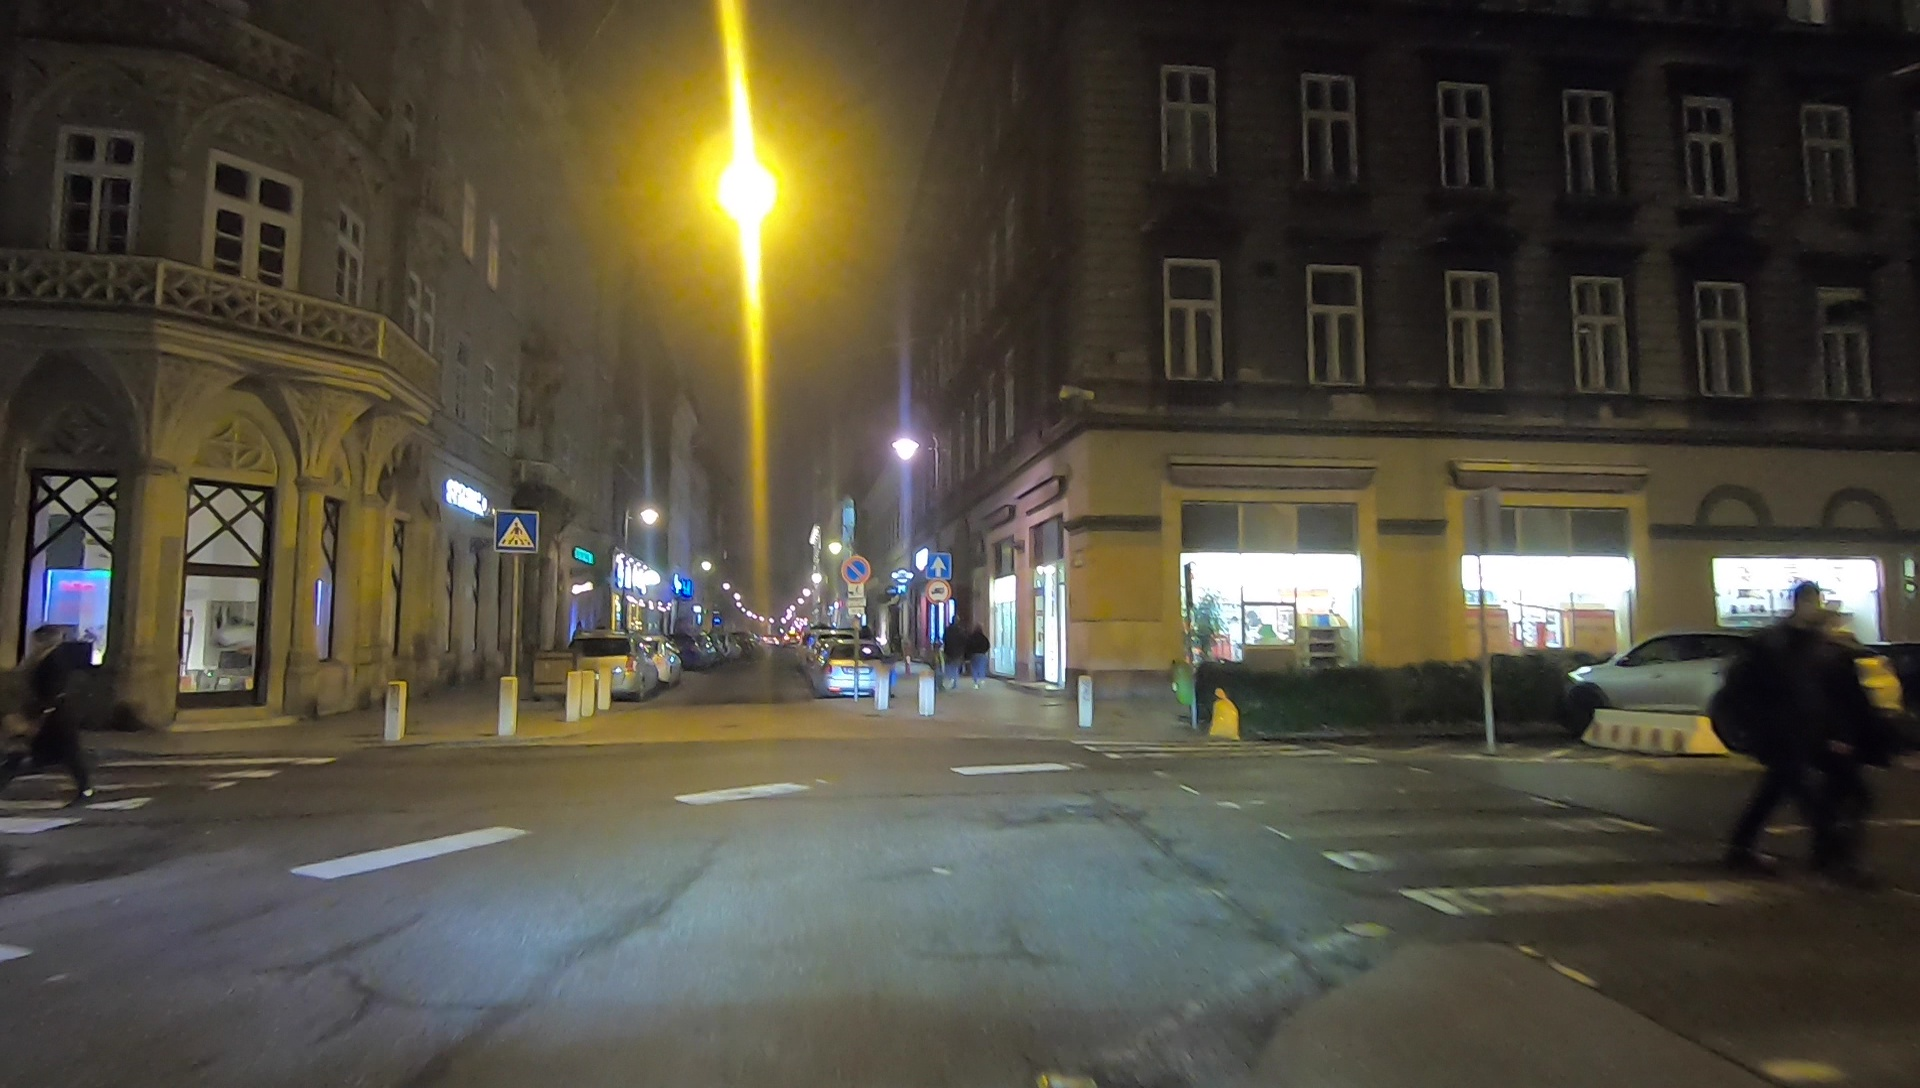person: (1726, 576, 1860, 876), (8, 624, 110, 802), (941, 610, 971, 687), (969, 623, 993, 691)
